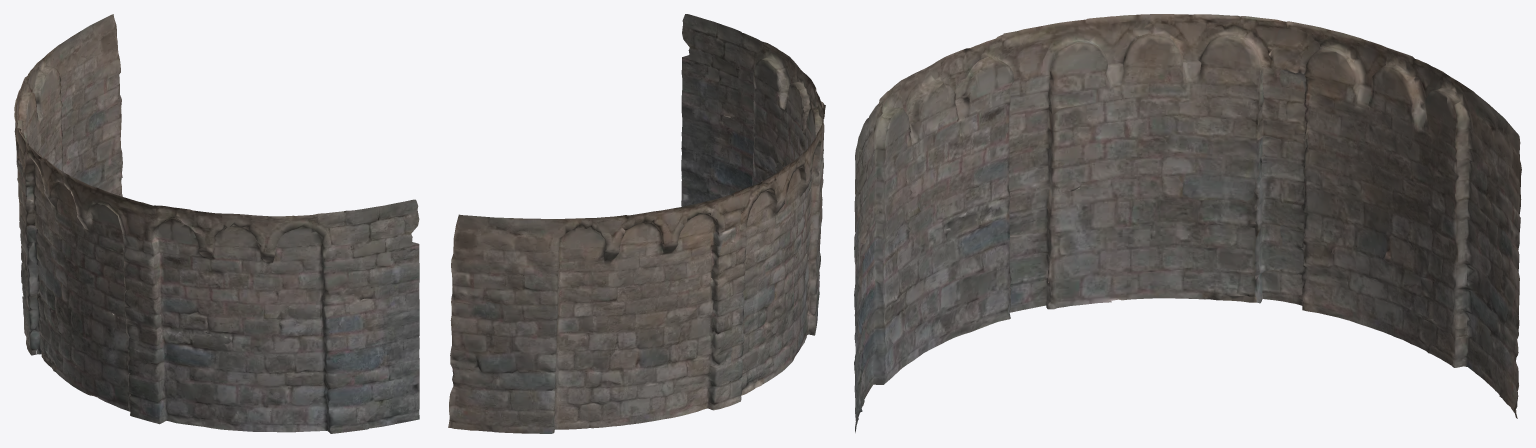
Rendered from ruin_wall.glb.
3 views of the same model, side by side, from view 1: azimuth 30°, elevation 25°; view 2: azimuth 150°, elevation 25°; view 3: azimuth 270°, elevation 25° (orthographic). The views are drawn at different scales.
Visible parts, largest first — view 1: abbey_03_abbey_round_0; view 2: abbey_03_abbey_round_0; view 3: abbey_03_abbey_round_0.
Boxes of the visible parts, <box> form: abbey_03_abbey_round_0: <box>14,14,419,433</box>; abbey_03_abbey_round_0: <box>448,14,825,433</box>; abbey_03_abbey_round_0: <box>854,14,1521,432</box>.
Size of the model in its own units: 3.52 by 3.12 by 6.81.
1 material, 1 textured.
